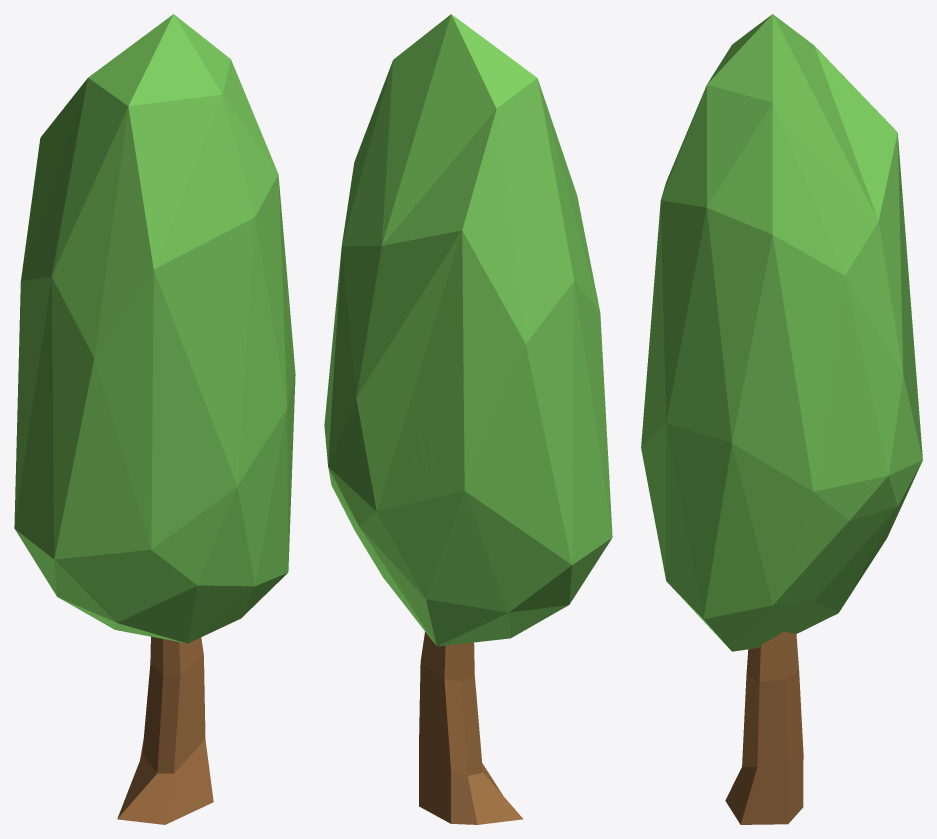
Rendered from tree1 color.fbx.
The picture shows the model from 3 angles, left to right: view 1: azimuth 30°, elevation 25°; view 2: azimuth 150°, elevation 25°; view 3: azimuth 270°, elevation 25°; orthographic projection. The views are drawn at different scales.
Visible parts, largest first — view 1: Icosphere, Cylinder; view 2: Icosphere, Cylinder; view 3: Icosphere, Cylinder.
Part boxes in pixels (<box>): Icosphere: <box>14,14,295,643</box>; Cylinder: <box>117,636,213,824</box>; Icosphere: <box>324,14,612,646</box>; Cylinder: <box>419,632,523,824</box>; Icosphere: <box>641,14,922,651</box>; Cylinder: <box>725,631,803,824</box>.
Size of the model in its own units: 219 by 672 by 214.
